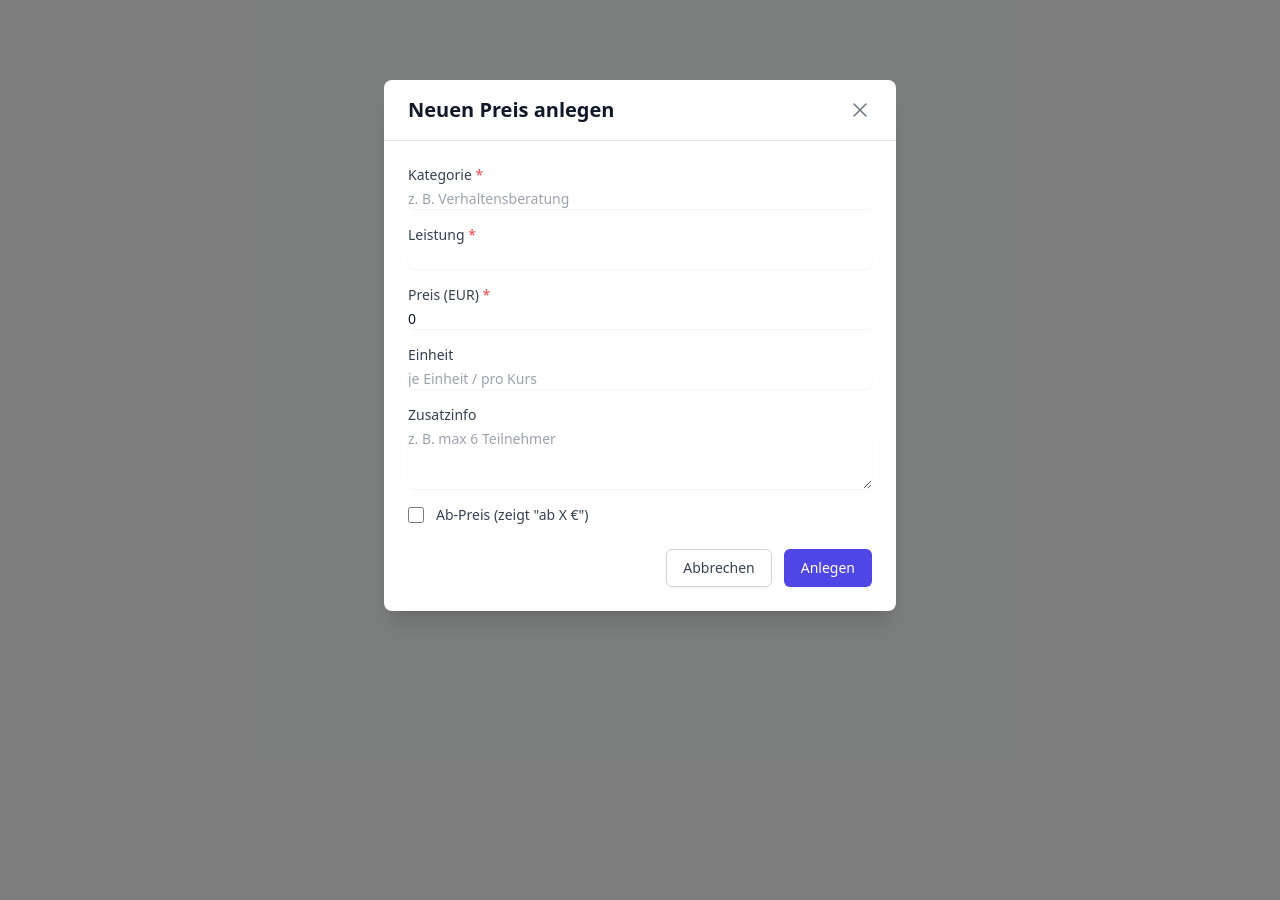
Test: PricingItemForm › zeigt Fehlermeldung wenn Leistungsbezeichnung beim Submit leer ist
The image size is (1280, 900).
Type "Eine Kategorie" into the field labelled "Kategorie *" at x=640, y=199, box top-left (408, 189), bottom-right (872, 209)
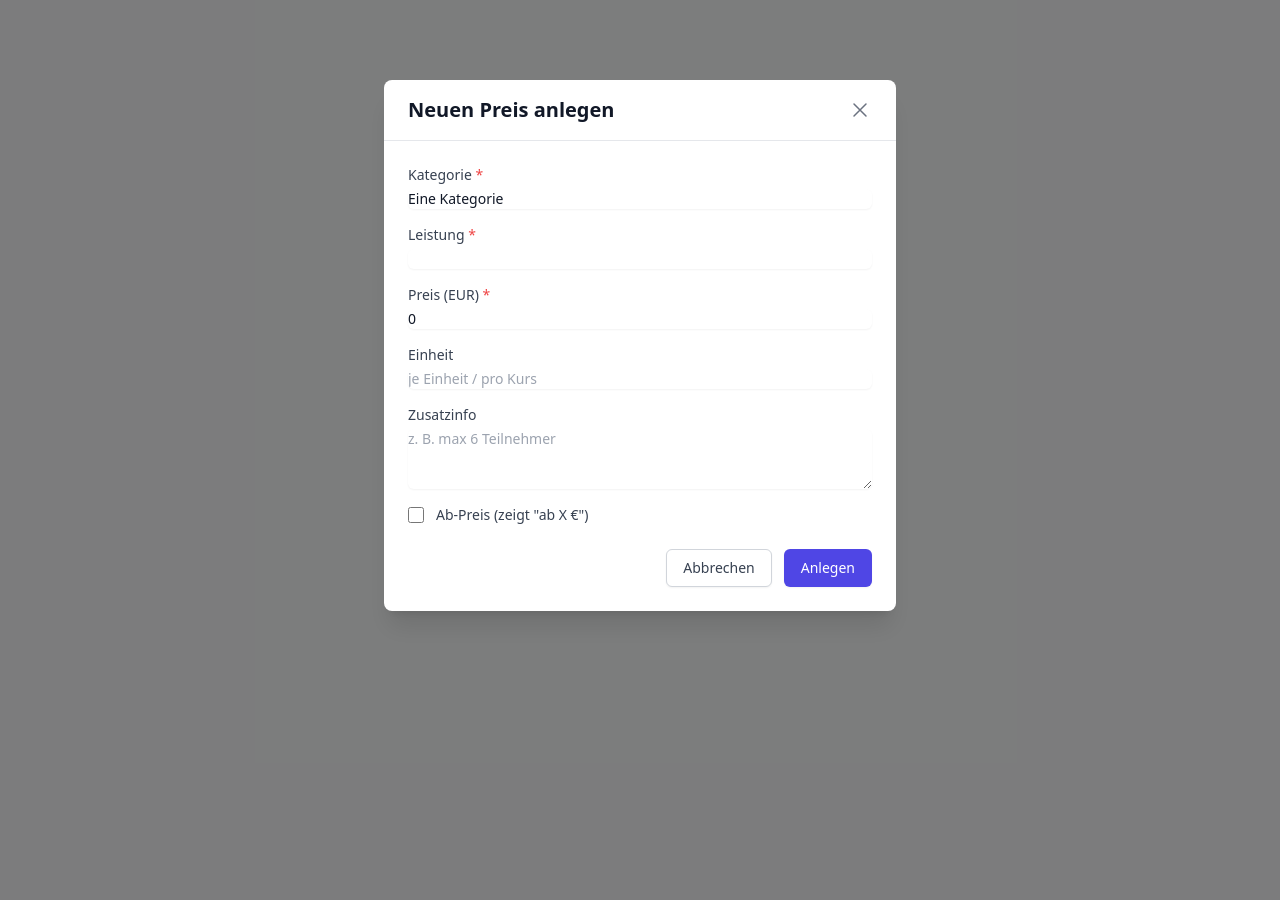
Replace the text in the number field labelled "Preis (EUR) *" with "50" at x=640, y=319, box top-left (408, 309), bottom-right (872, 329)
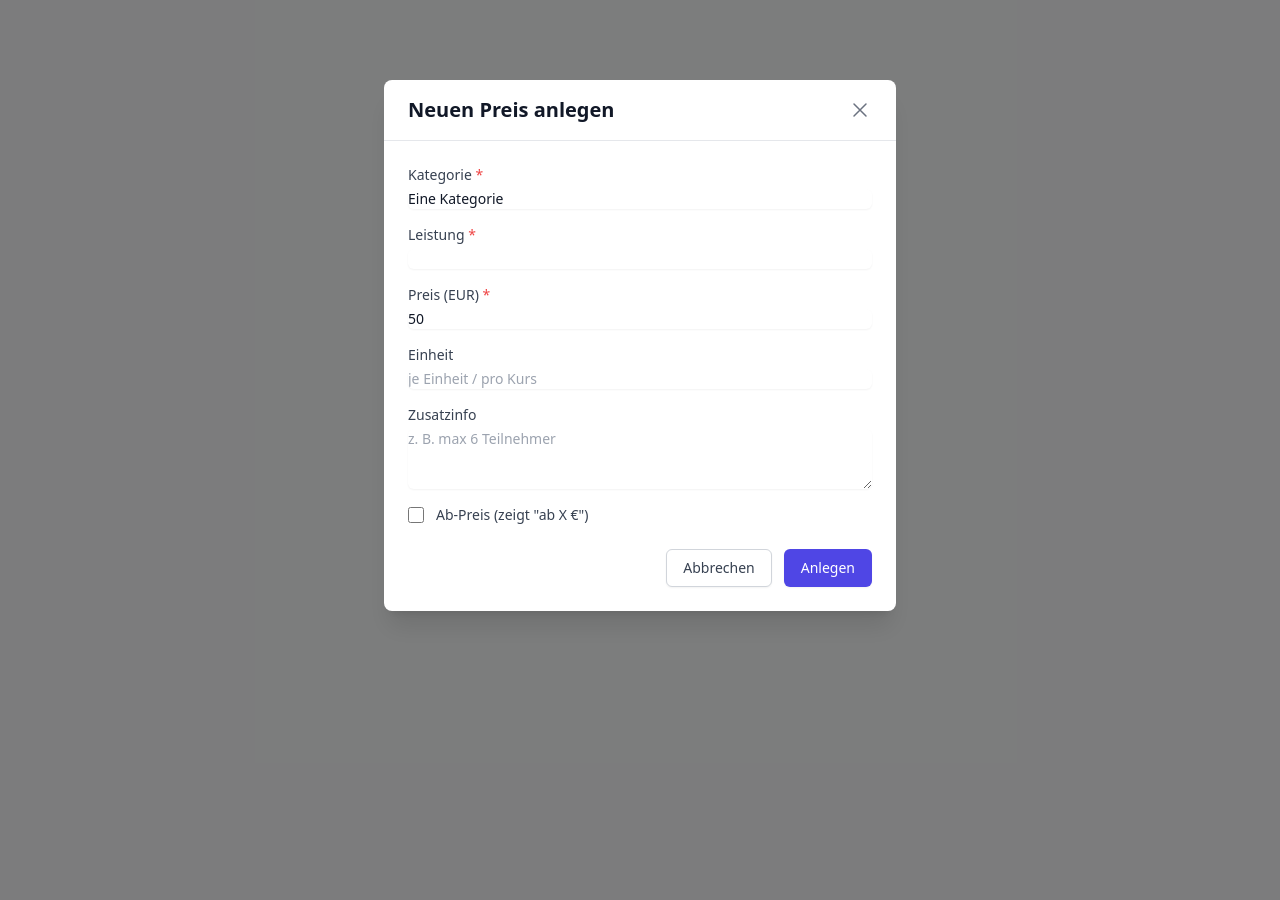
Submit the form, box top-left (384, 141), bottom-right (896, 611)
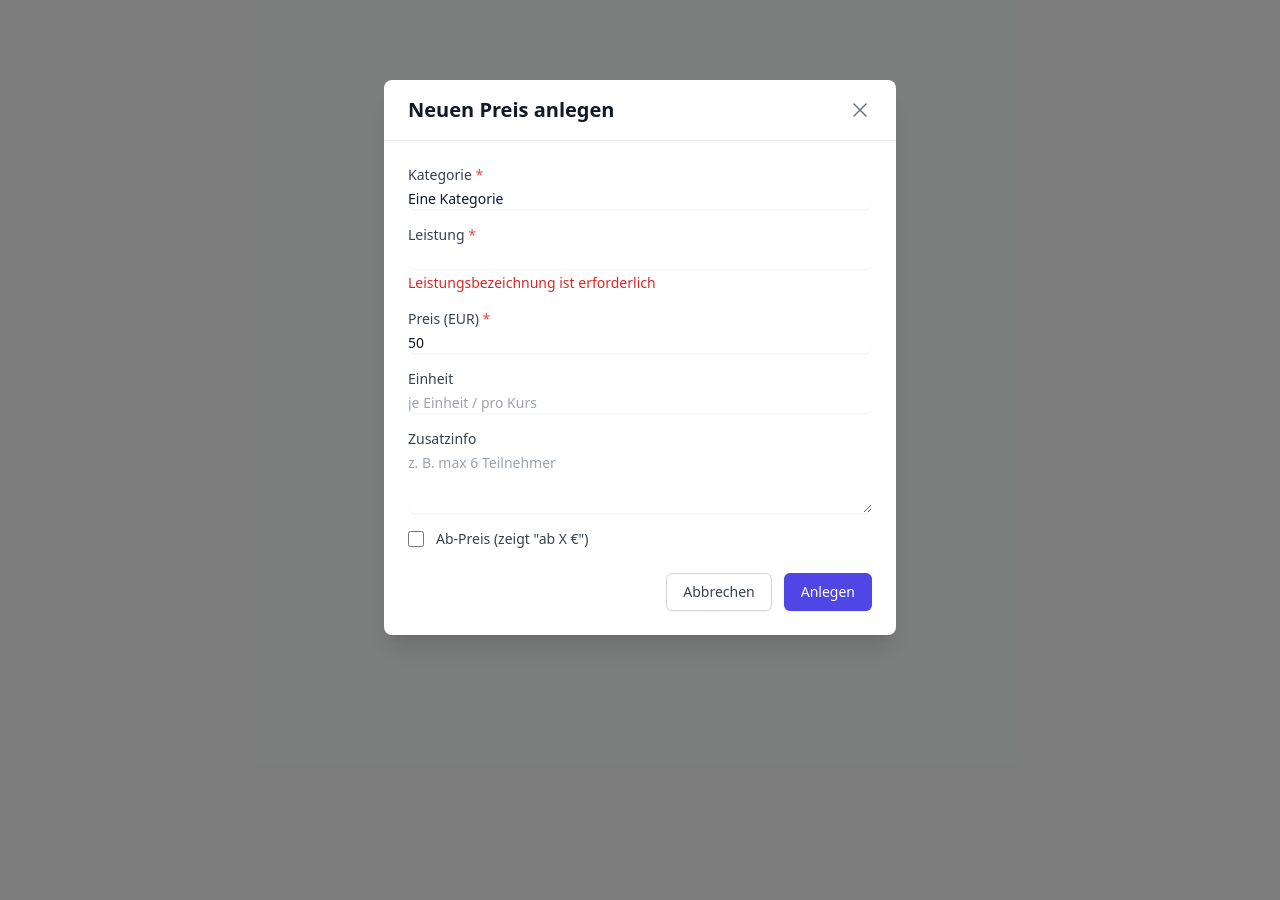
Expected: the text "Leistungsbezeichnung ist erforderlich" is shown, top-left (408, 273), bottom-right (656, 292)
